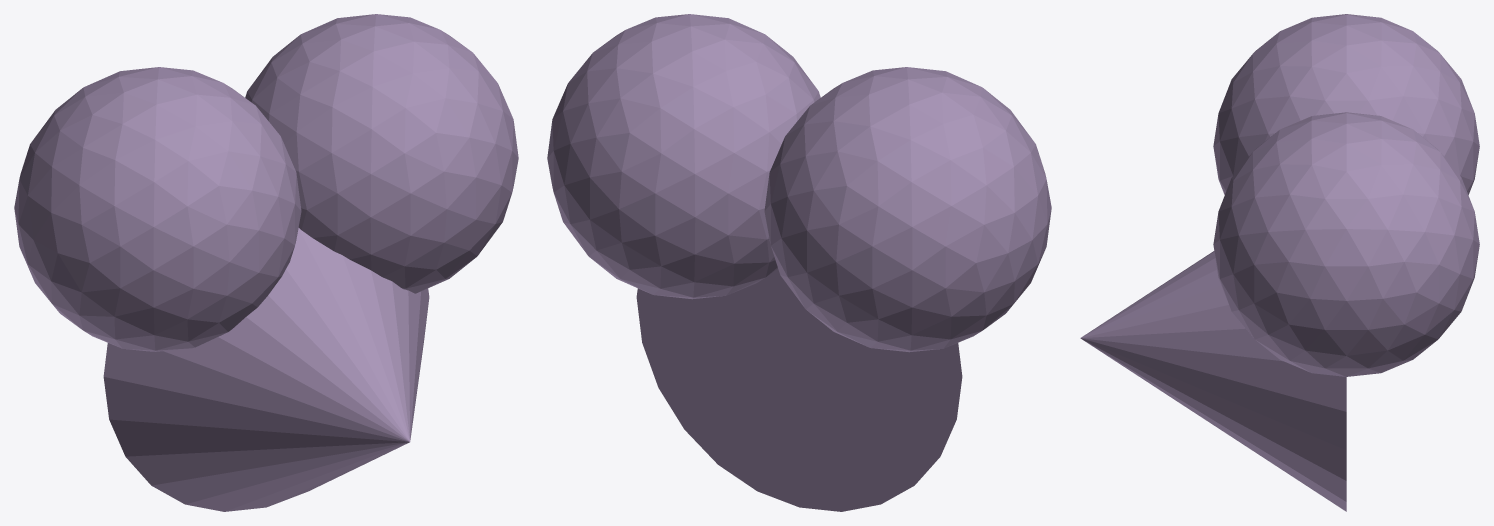
The model's file is love_026.glb.
3 renders of one model, left to right at view 1: azimuth 30°, elevation 25°; view 2: azimuth 150°, elevation 25°; view 3: azimuth 270°, elevation 25°, orthographic. The views are drawn at different scales.
Visible parts, largest first — view 1: world; view 2: world; view 3: world.
Boxes of the visible parts, bbox=[...] form: world: bbox=[14, 14, 518, 511]; world: bbox=[547, 14, 1051, 511]; world: bbox=[1080, 14, 1479, 511].
Size of the model in its own units: 2.06 by 1.92 by 1.65.
